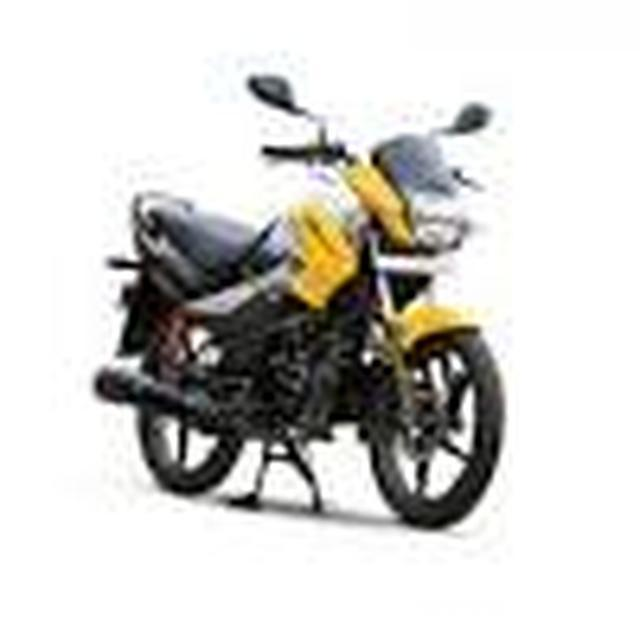motorcycle: (89, 71, 508, 537)
